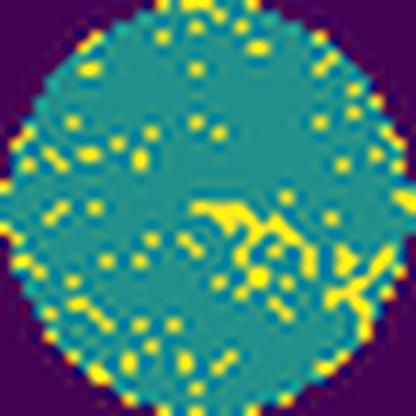Loc: (193, 198, 316, 295), (326, 276, 368, 324)
